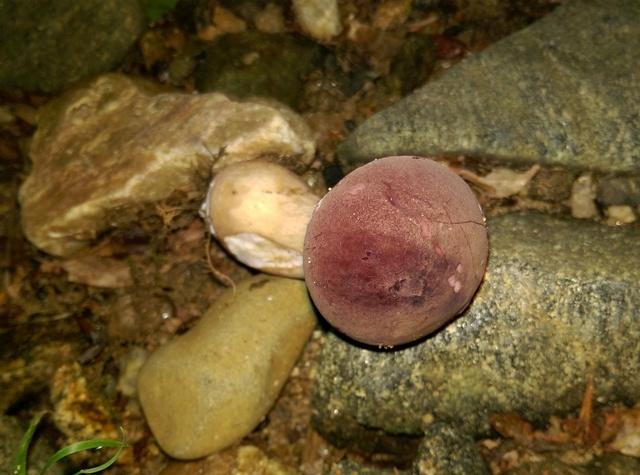Non-edible Mushroom: (301, 153, 490, 348), (140, 145, 350, 287)
